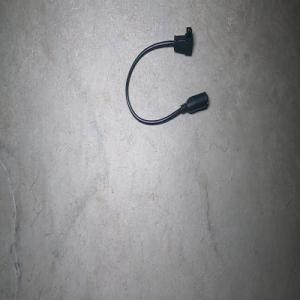Wire: (125, 26, 208, 125)
